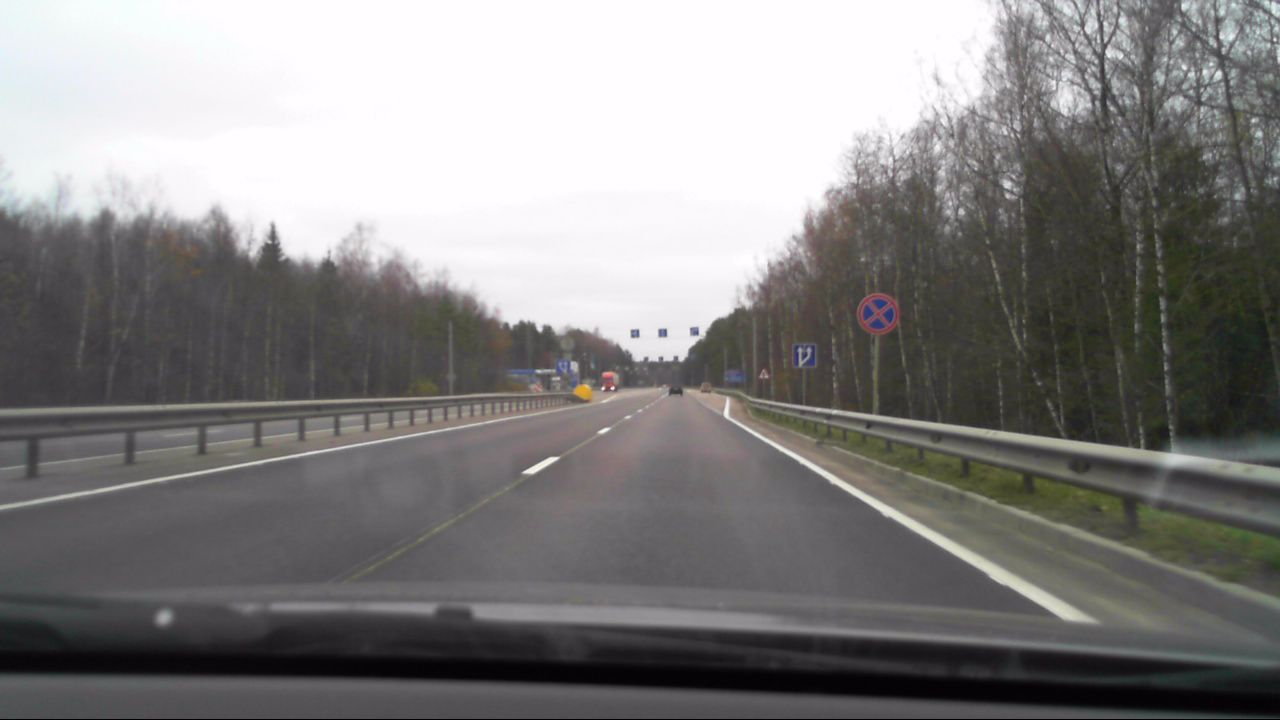No Parking: (854, 292, 899, 334)
